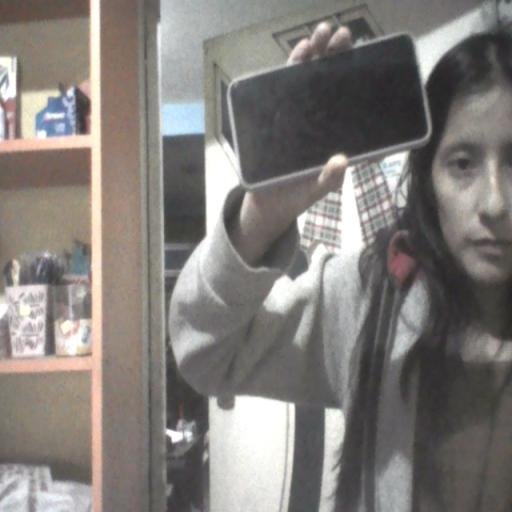phone: (229, 29, 439, 189)
